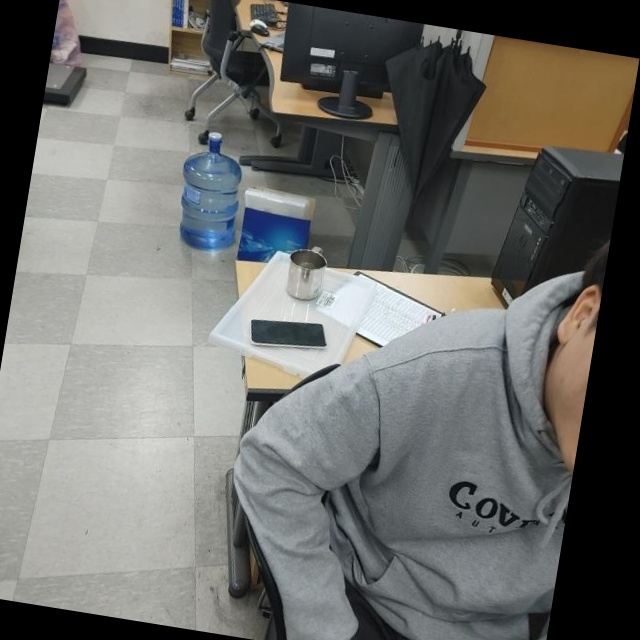cup: (283, 242, 330, 304)
phone: (245, 310, 333, 359)
